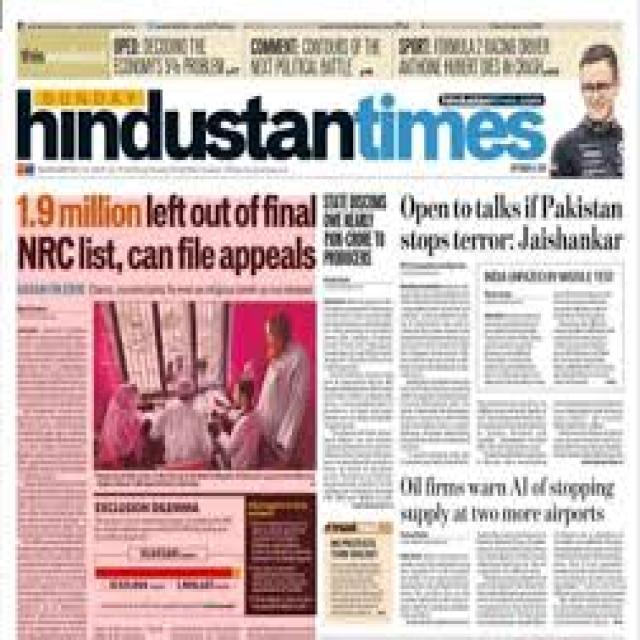Newspaper: (5, 8, 640, 626)
